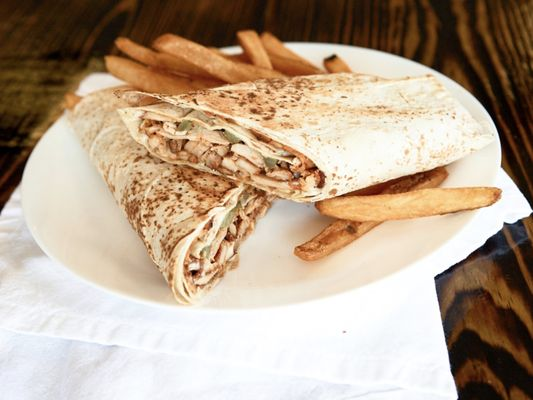soup: (51, 65, 504, 307)
